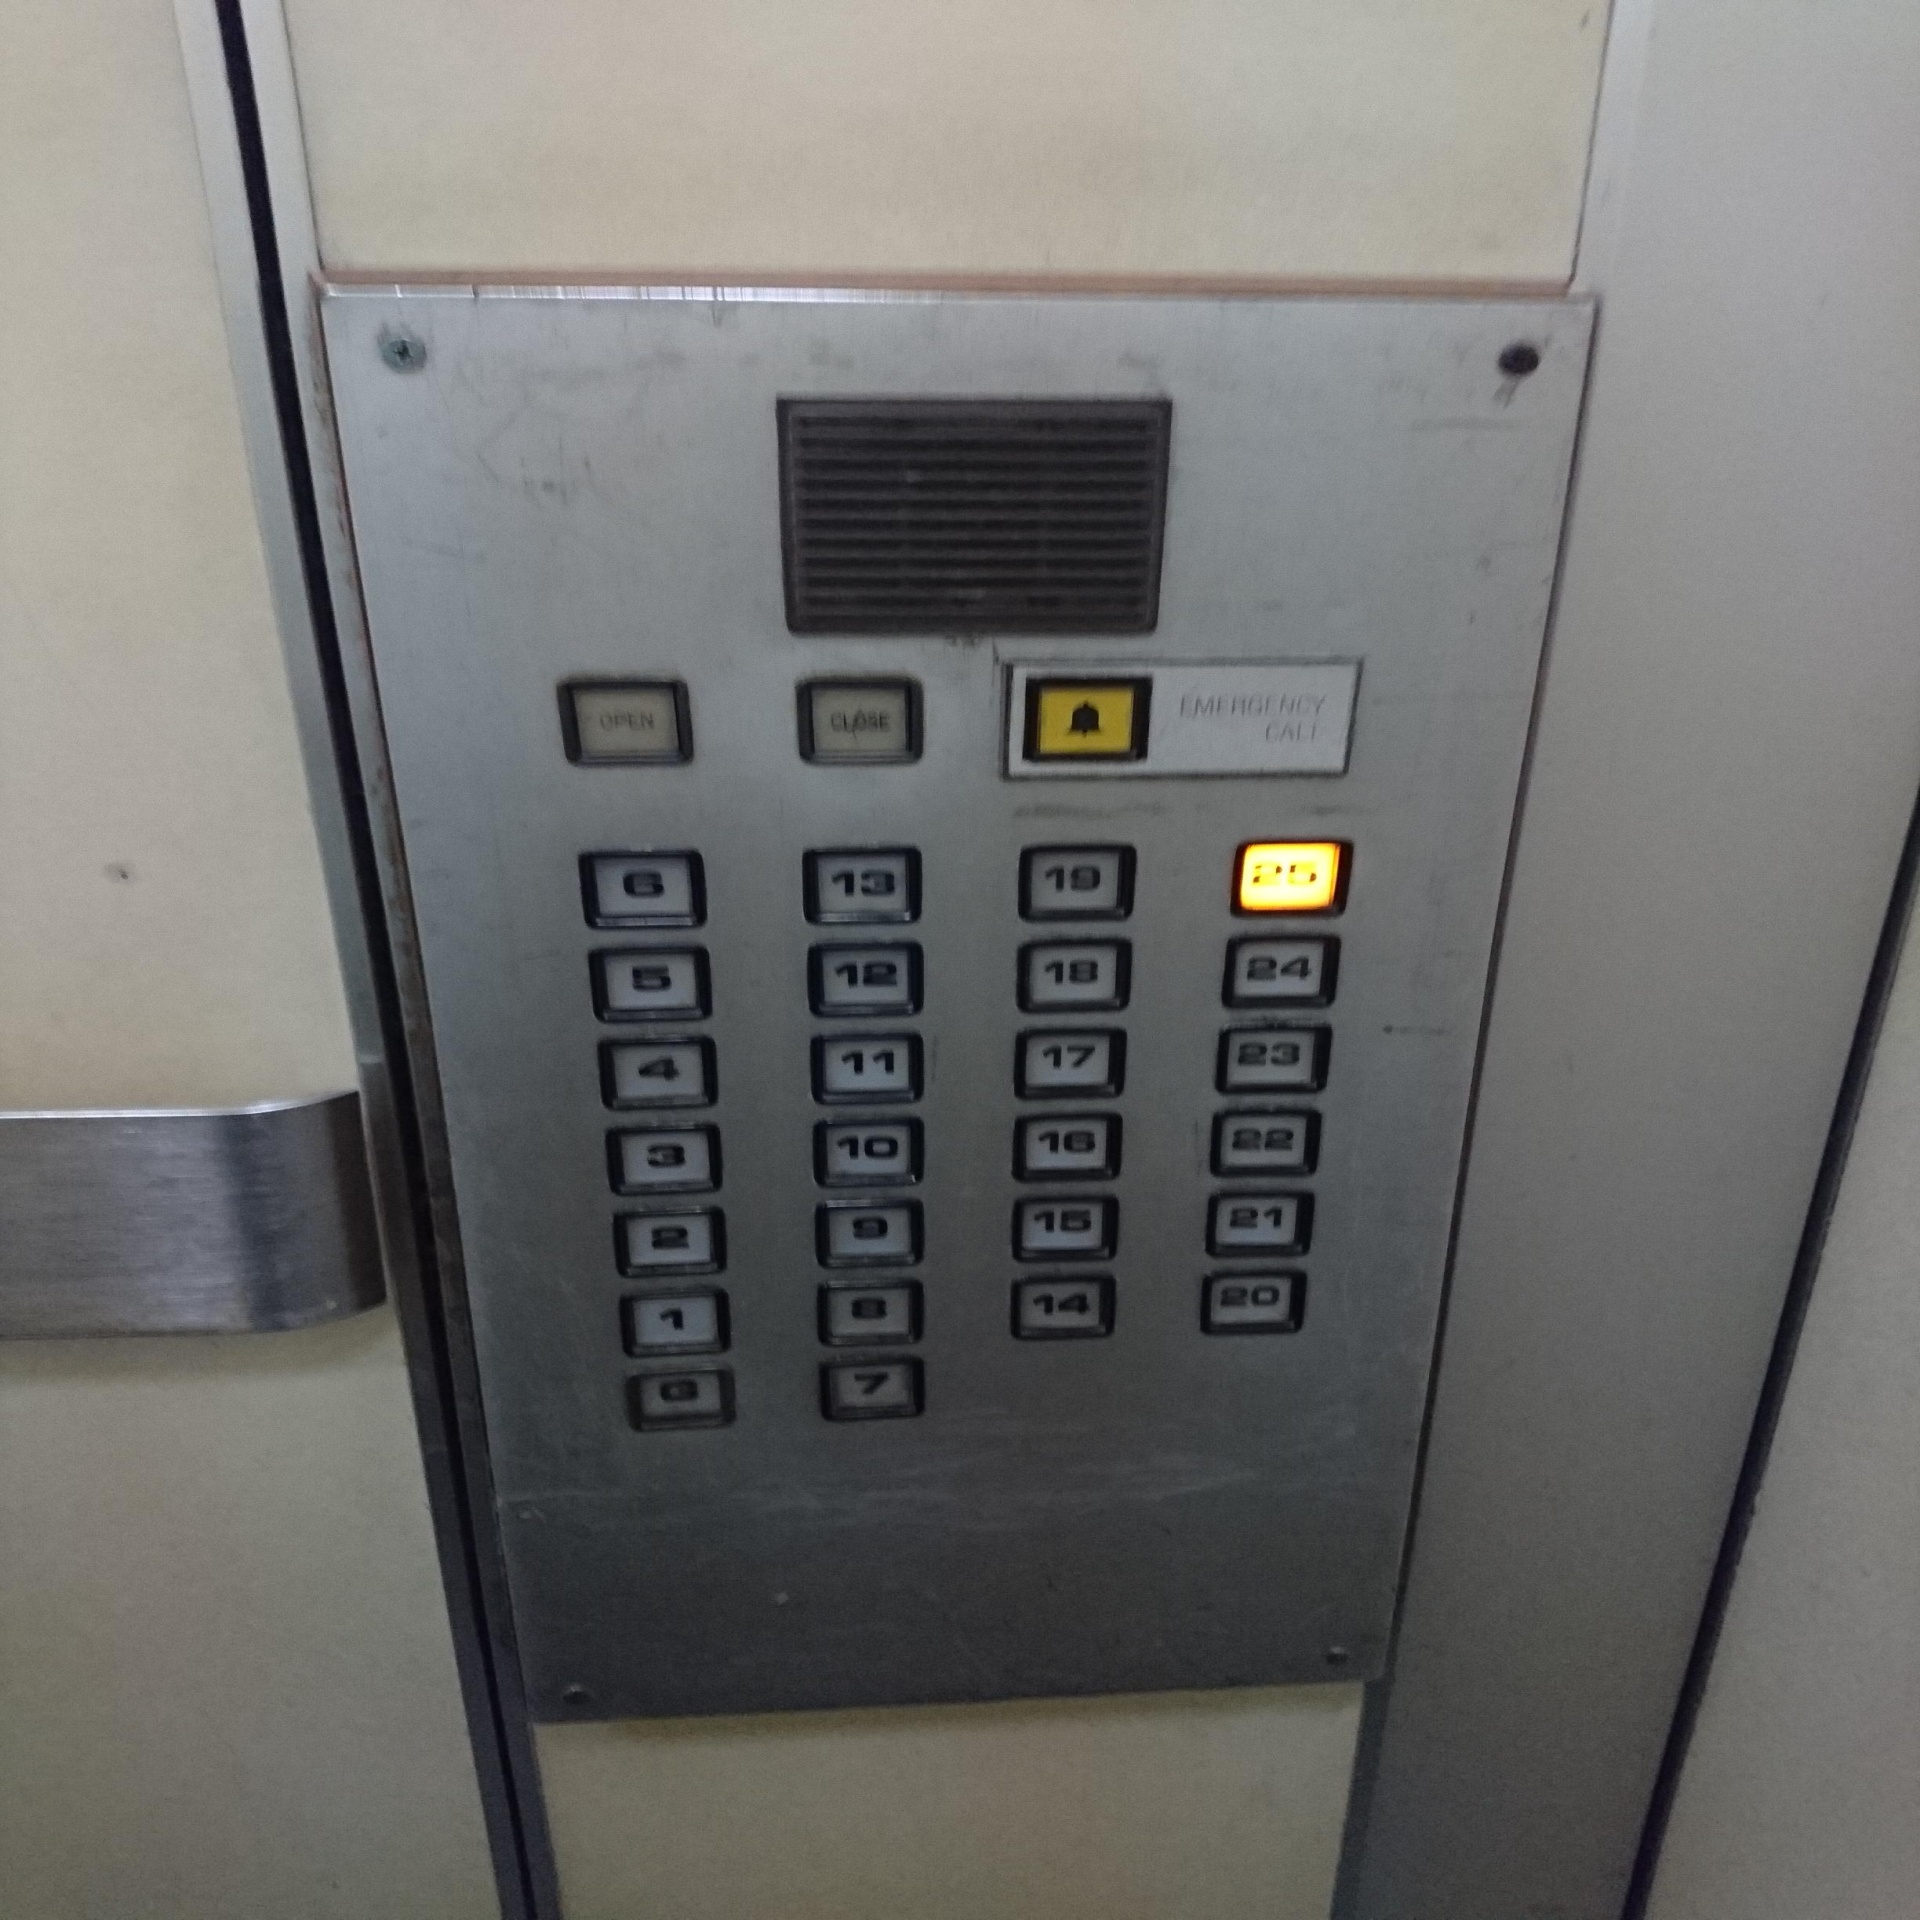1: (619, 1287, 731, 1357)
10: (812, 1115, 925, 1189)
11: (811, 1030, 925, 1106)
12: (807, 941, 925, 1020)
13: (802, 846, 925, 928)
14: (1009, 1271, 1118, 1340)
15: (1009, 1196, 1120, 1262)
16: (1011, 1109, 1124, 1183)
17: (1013, 1027, 1129, 1101)
18: (1016, 937, 1132, 1013)
19: (1016, 842, 1138, 925)
2: (612, 1204, 728, 1278)
20: (1199, 1269, 1306, 1335)
21: (1204, 1189, 1315, 1259)
22: (1210, 1108, 1322, 1178)
23: (1215, 1020, 1335, 1095)
24: (1222, 932, 1342, 1009)
3: (601, 1120, 724, 1197)
4: (594, 1034, 717, 1111)
5: (587, 944, 714, 1025)
6: (577, 847, 709, 932)
7: (818, 1354, 927, 1422)
8: (818, 1278, 925, 1349)
9: (816, 1197, 925, 1269)
G: (626, 1364, 737, 1435)
alarm: (1022, 672, 1153, 765)
blur: (1229, 837, 1356, 920)
text_close: (795, 675, 925, 767)
text_open: (556, 677, 695, 768)
